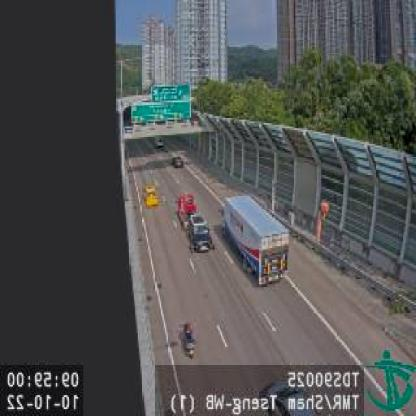Car: (144, 186, 158, 206)
Truck: (222, 196, 288, 284)
